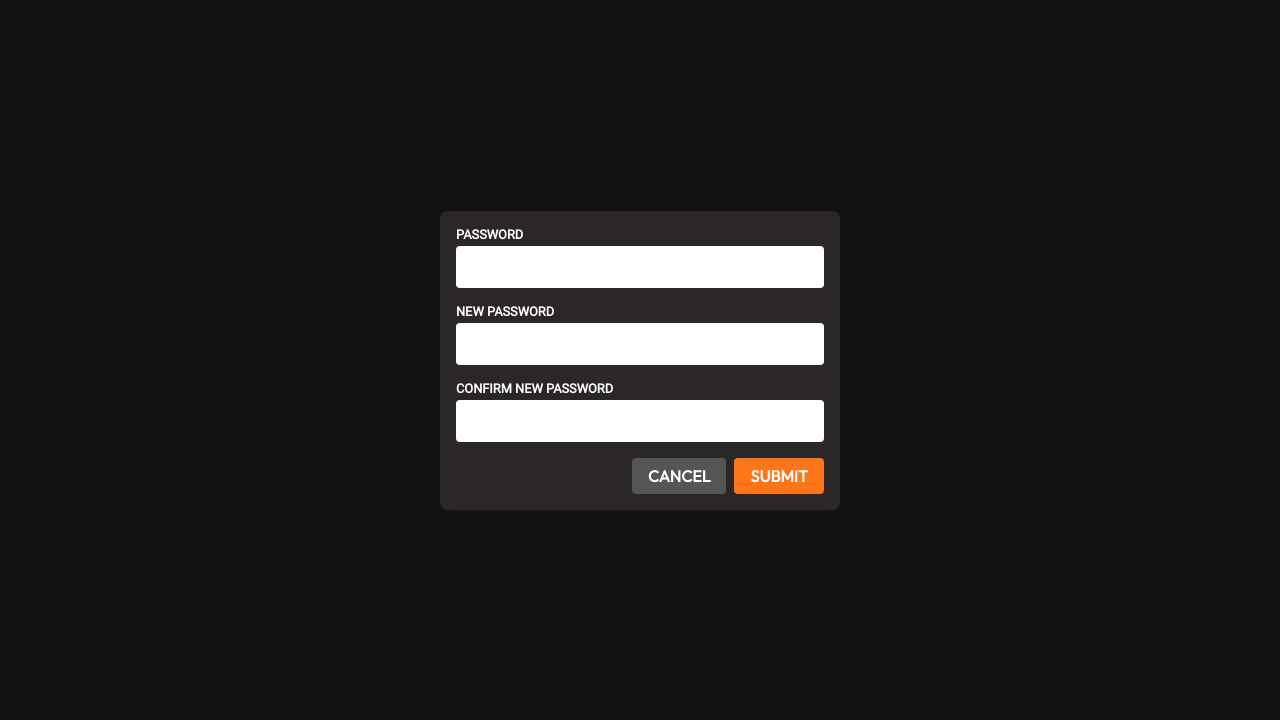
Test: ChangePasswordForm › shows error message on api invalid input error
Type "someoldpassword" into the password field labelled "PASSWORD" at [640, 266], box [456,246,824,288]
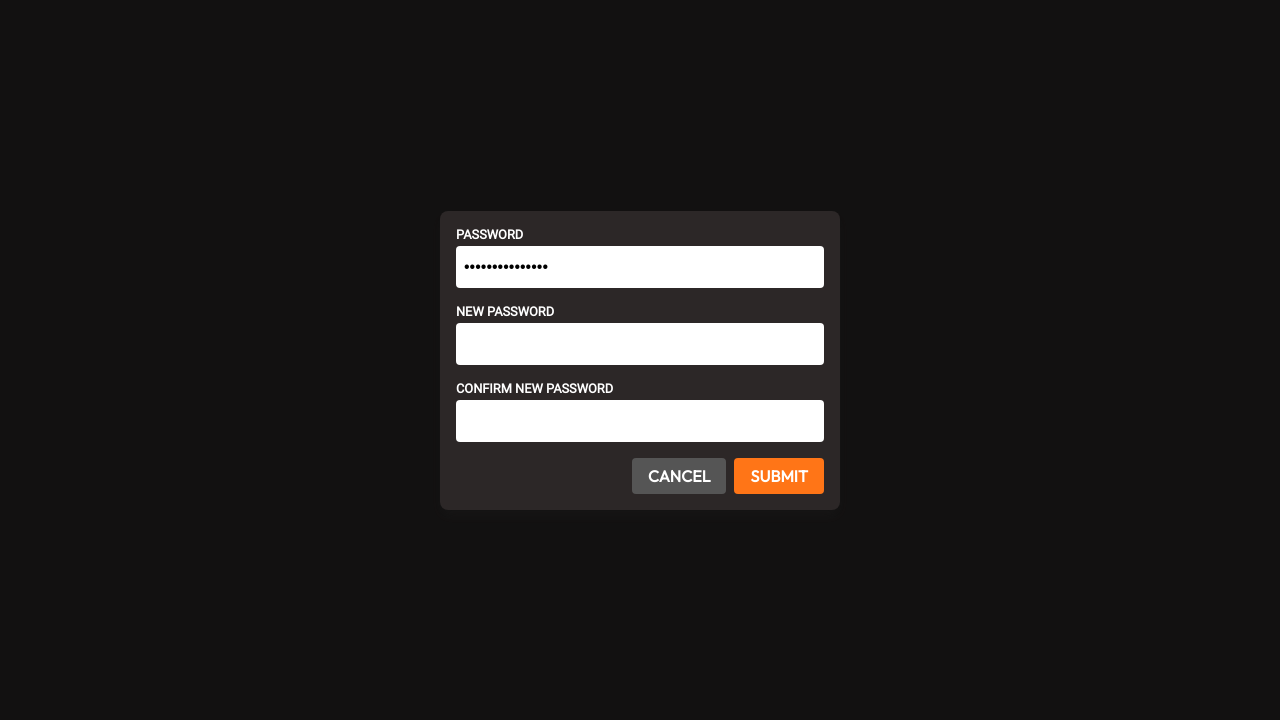
Type "somenewpassword" into the password field labelled "NEW PASSWORD" at [640, 344], box [456,322,824,364]
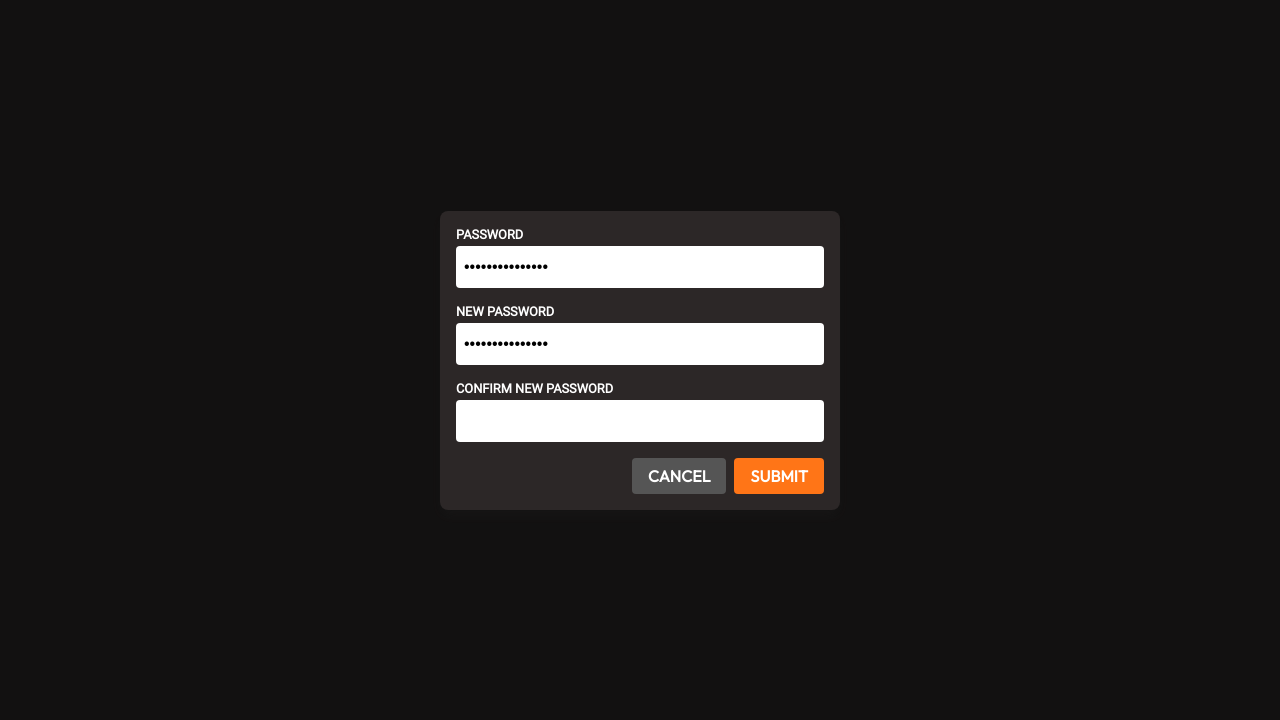
Type "somenewpassword" into the password field labelled "CONFIRM NEW PASSWORD" at [640, 420], box [456,400,824,442]
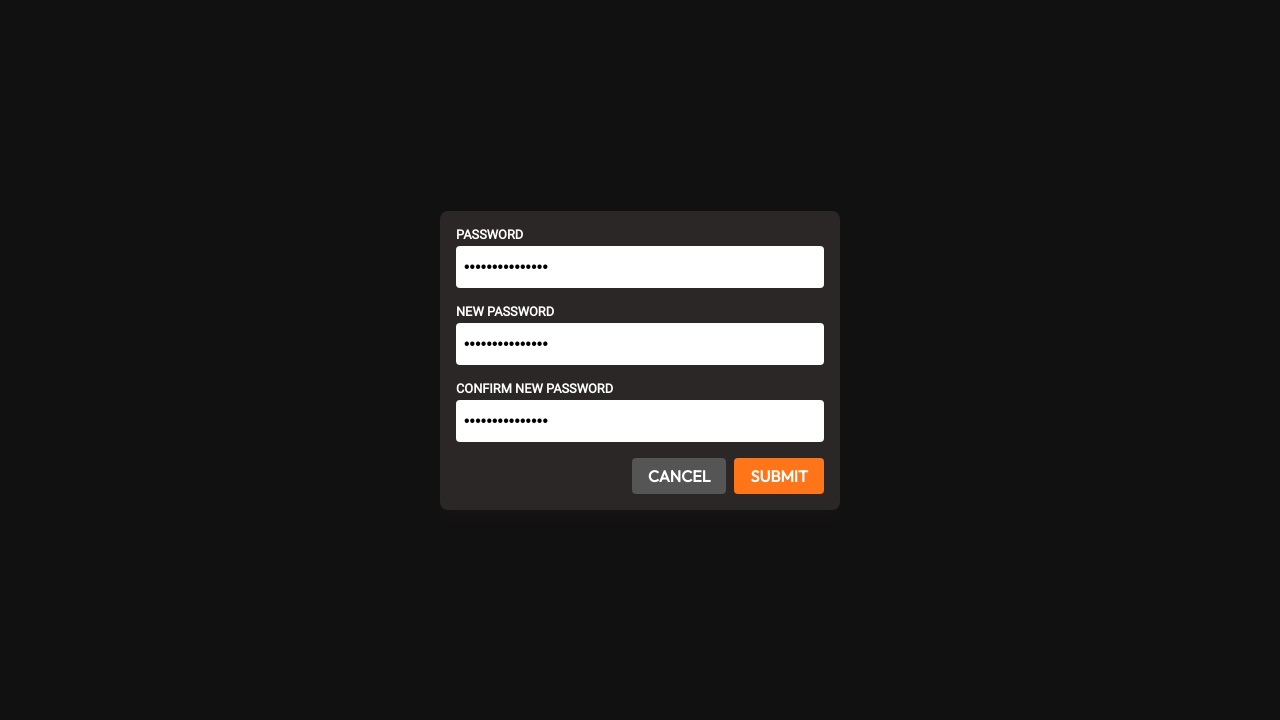
Click the button "SUBMIT" at [779, 476], box [734,458,824,494]
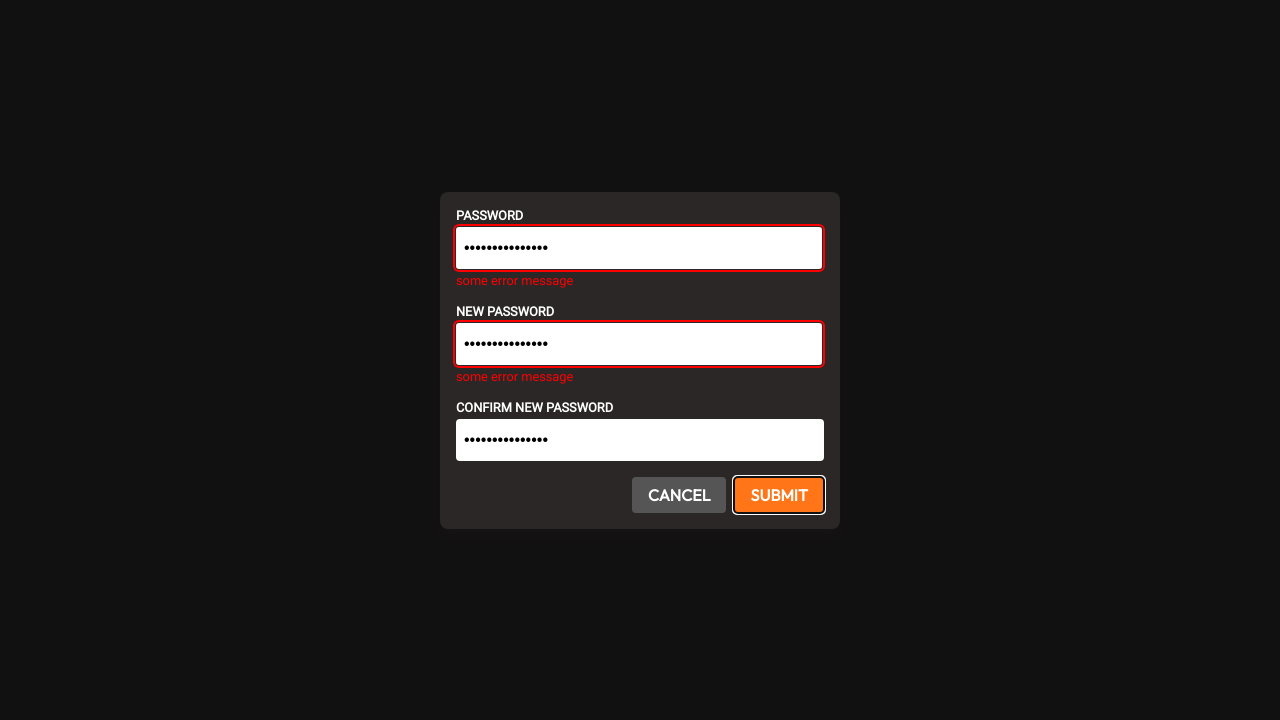
Check: the text "some error message" is shown 2 times, box [456,272,573,288]; [456,368,573,384]
